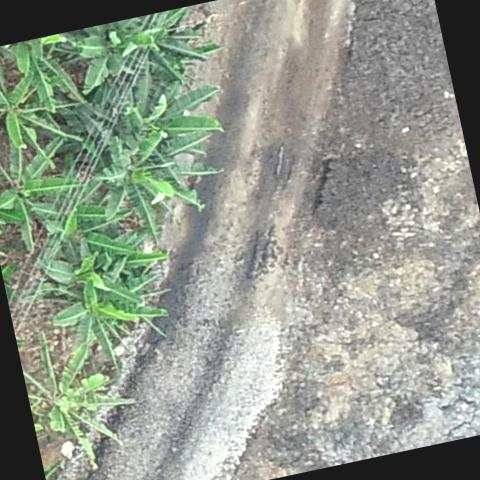Banana-plant: (16, 321, 144, 477), (69, 121, 199, 246), (76, 70, 228, 170), (36, 272, 155, 369), (0, 134, 88, 260), (53, 14, 173, 102), (0, 56, 75, 162)
